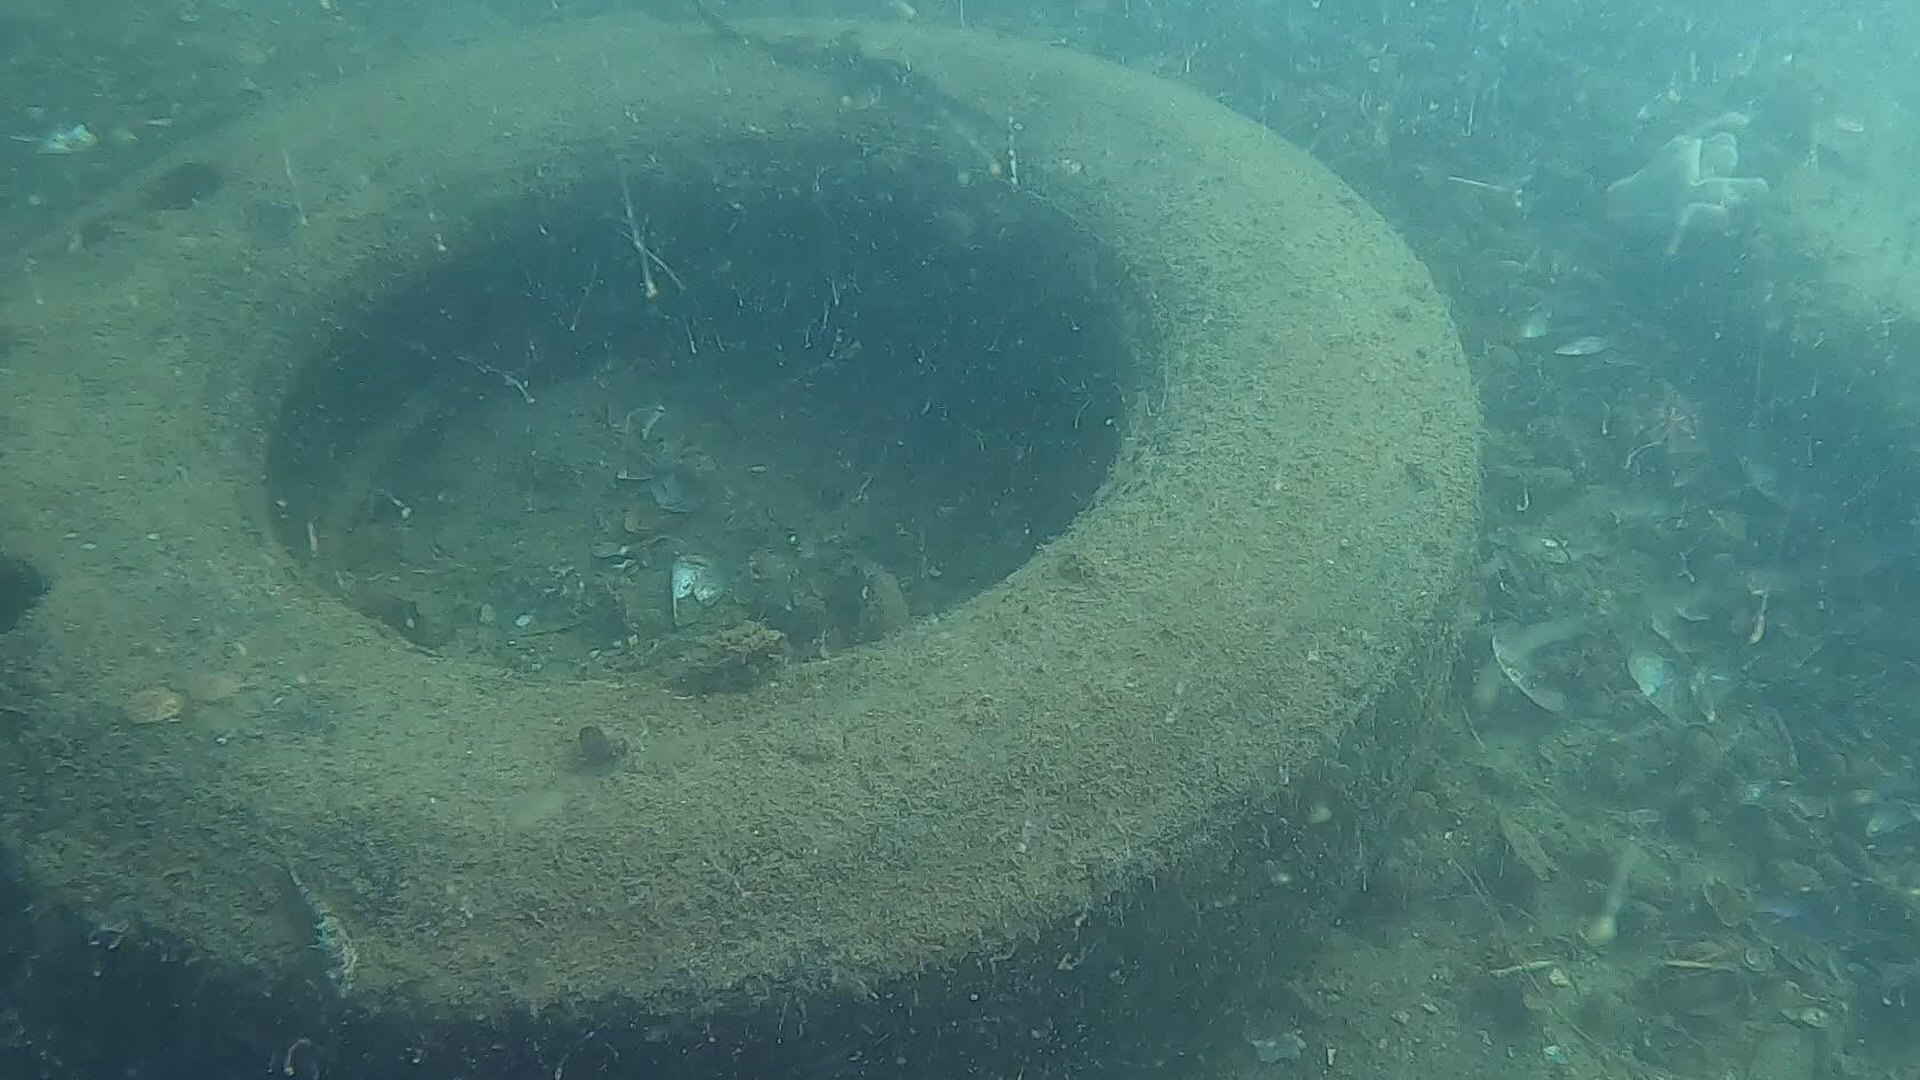tire: (0, 12, 1486, 1080)
